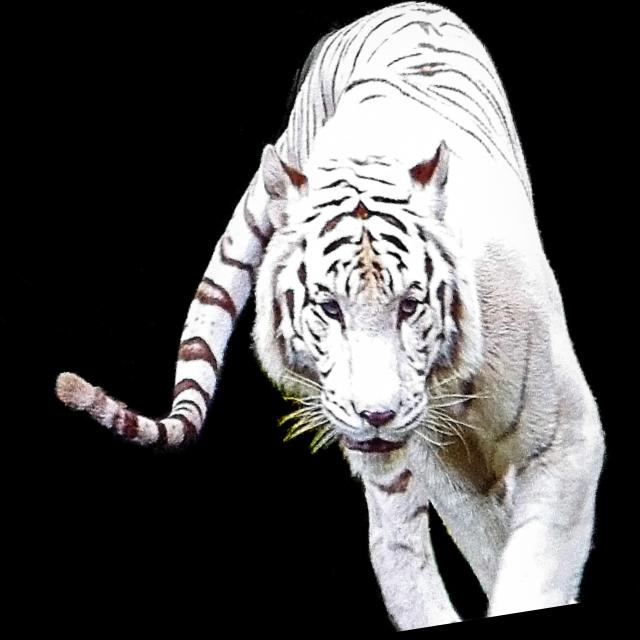tiger: (109, 15, 625, 587)
